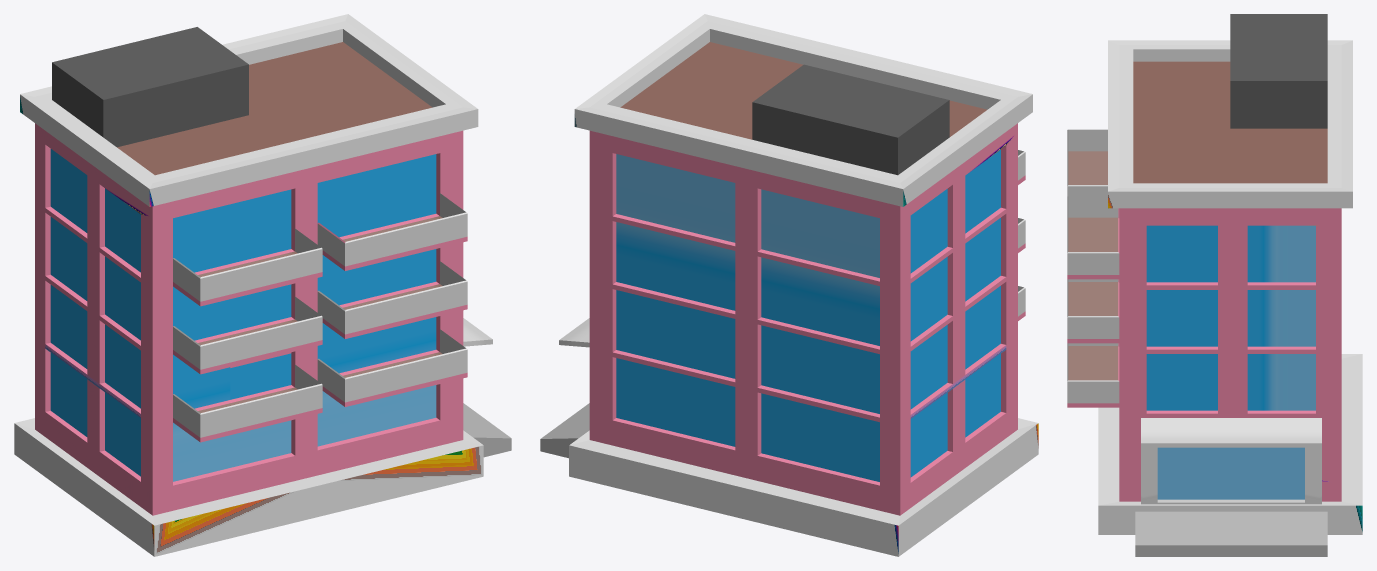
File: build_4_1.dae
3 renders of one model, left to right at view 1: azimuth 30°, elevation 25°; view 2: azimuth 150°, elevation 25°; view 3: azimuth 270°, elevation 25°, orthographic. The views are drawn at different scales.
Visible parts, largest first — view 1: house_4; view 2: house_4; view 3: house_4.
Part boxes in pixels (x1,y1,x2,y2): house_4: (14,14,511,556); house_4: (540,14,1038,556); house_4: (1067,14,1362,556).
Bounding box in the file's own units: 15.39 × 11.08 × 15.64.
Materials: 1 (1 with a texture image).
